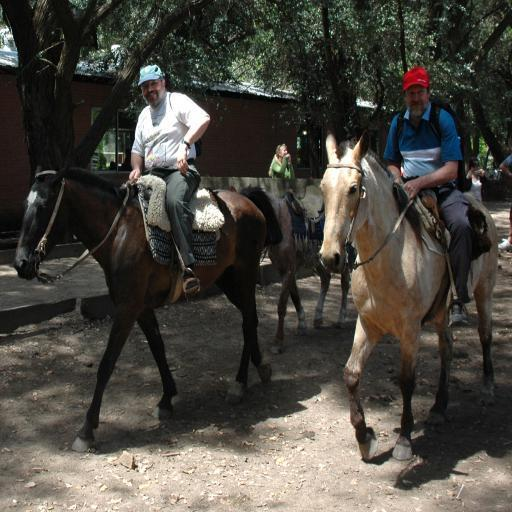horse: (13, 162, 282, 454), (318, 128, 498, 464), (230, 182, 350, 354)
